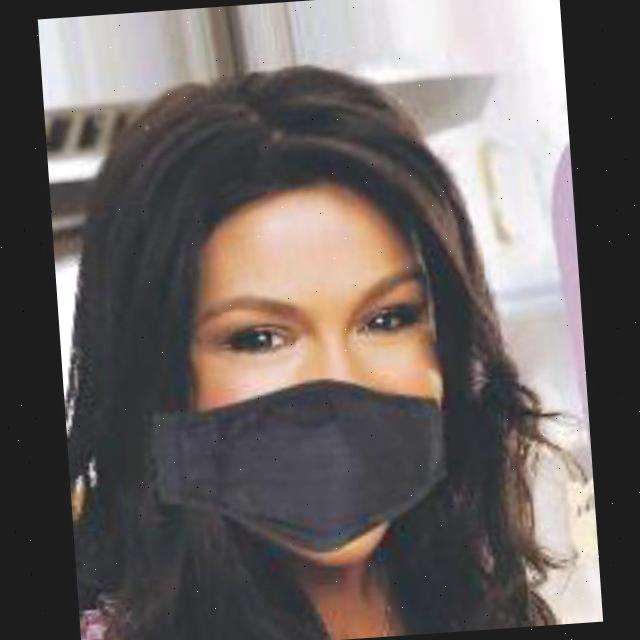suspicion: (104, 140, 482, 592)
